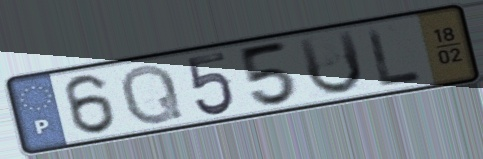5: (236, 37, 301, 110), (183, 49, 235, 117)
6: (61, 72, 118, 137)
L: (363, 23, 425, 90)
Q: (118, 61, 188, 128)
U: (294, 27, 367, 98)
